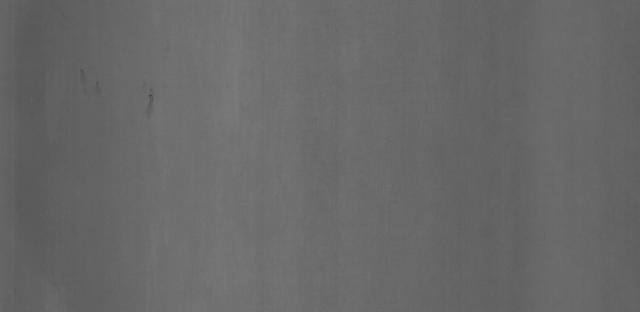water_spot: (134, 82, 173, 135), (73, 60, 107, 107)
